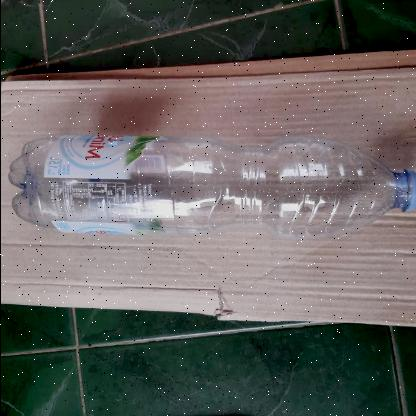Plastic Bottle: (10, 132, 416, 242)
